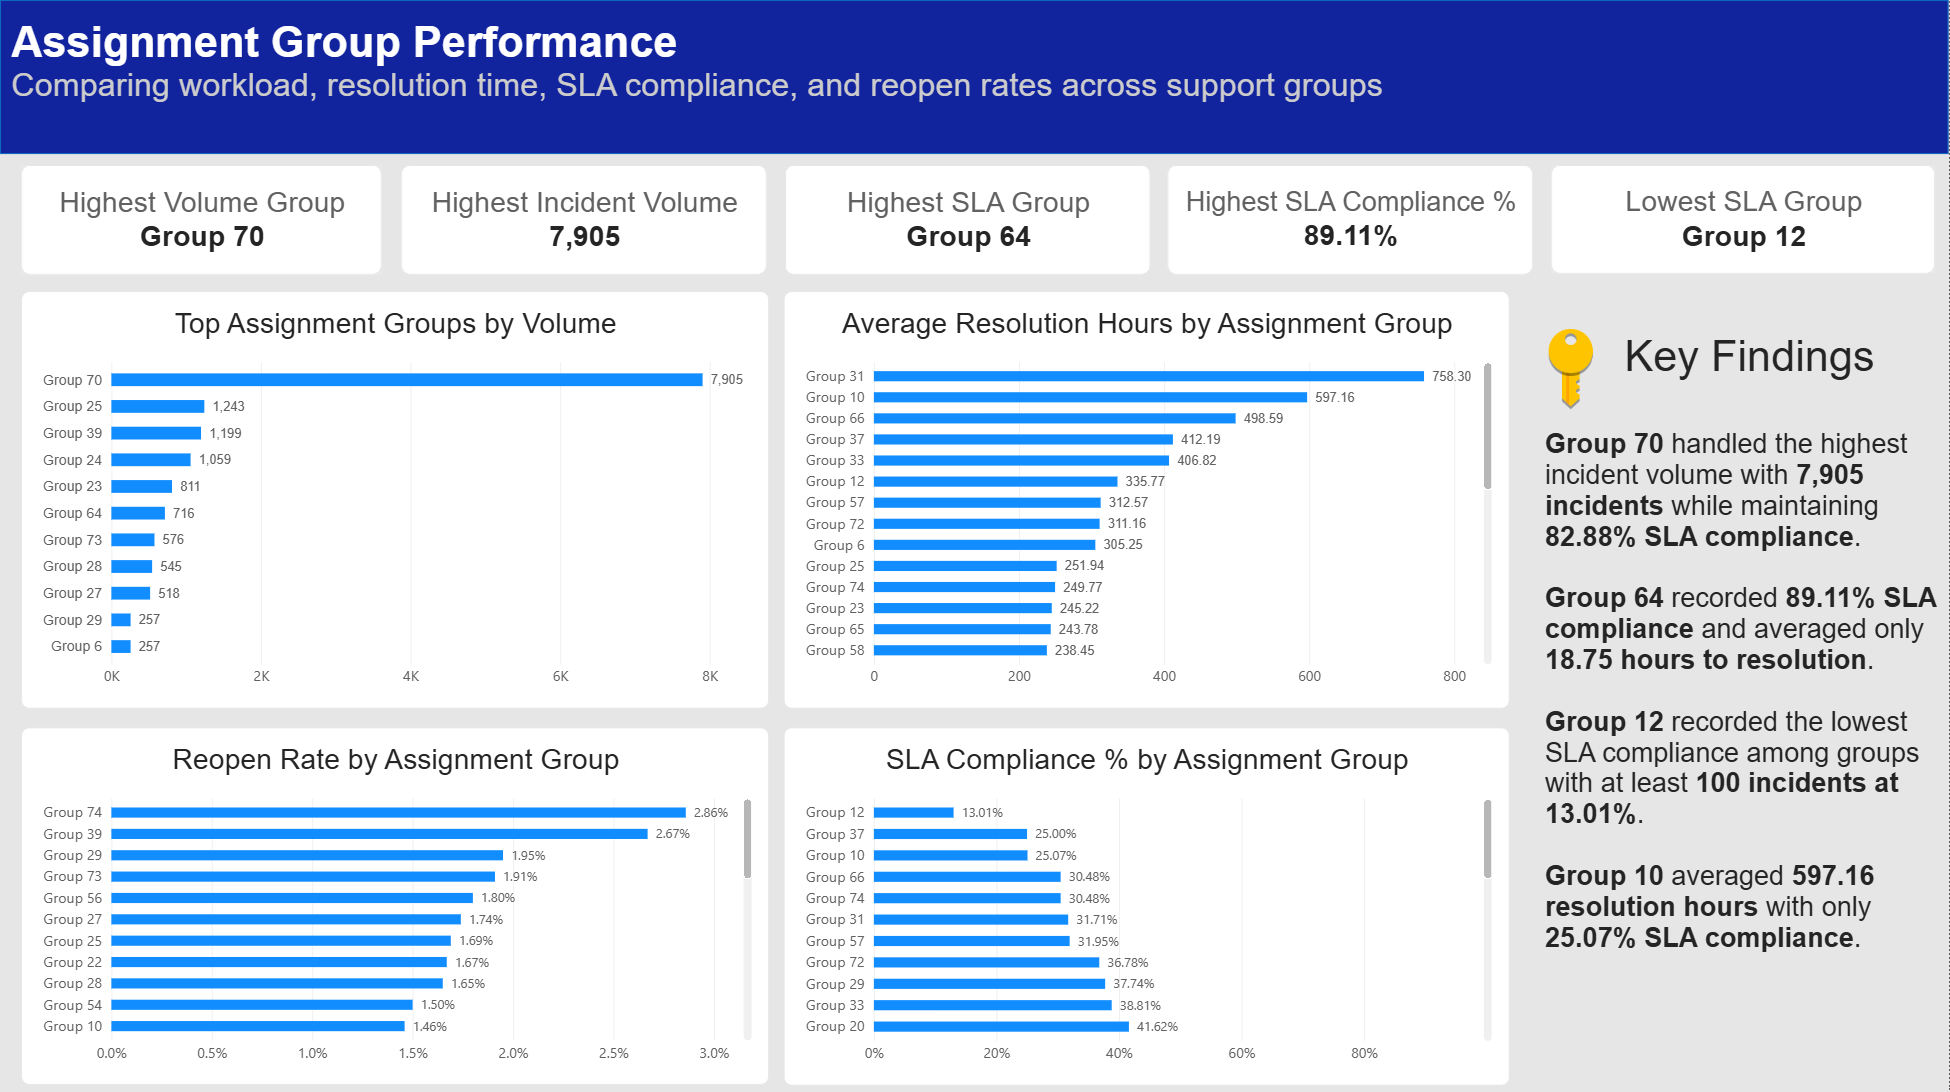

The dashboard page shown, as its layout file describes it:
{"tool":"powerbi","page":{"name":"Assignment Group Performance","canvas":[1920,1080],"ordinal":3},"visuals":[{"type":"shape","box":[0,0,1920,151.8],"z":0},{"type":"textbox","box":[11.5,17.2,1513.3,146.2],"z":1000},{"type":"cardVisual","title":"Total Incidents","fields":{"Data":["vw_Assignment_Group_Performance.Highest Volume Group"]},"box":[21.5,163.1,355.4,108.9],"z":2000},{"type":"cardVisual","fields":{"Data":["vw_Assignment_Group_Performance.Highest Group Volume"]},"box":[394.9,163.1,360,108.2],"z":3000},{"type":"cardVisual","fields":{"Data":["vw_Assignment_Group_Performance.Highest SLA Group"]},"box":[773,163.2,360,108.2],"z":4000},{"type":"cardVisual","fields":{"Data":["vw_Assignment_Group_Performance.Highest SLA Compliance"]},"box":[1151,163.1,360,108.2],"z":5000},{"type":"textbox","box":[1529.1,326.7,390.8,72.7],"z":6000},{"type":"image","box":[1497.5,319.6,100.1,87.2],"z":7000},{"type":"textbox","box":[1521.9,422.8,398.4,657.8],"z":8000},{"type":"cardVisual","title":"Lowest SLA Category (100+ Incidents)","fields":{"Data":["vw_Assignment_Group_Performance.Lowest SLA Group"]},"box":[1529.1,163.1,378.3,107.5],"z":9000},{"type":"clusteredBarChart","title":"Top Assignment Groups by Volume","fields":{"Category":["vw_Assignment_Group_Performance.assignment_group"],"Y":["Sum(vw_Assignment_Group_Performance.Incident_Count)"]},"box":[21.5,286.6,736.6,411.3],"z":10000},{"type":"clusteredBarChart","title":"Average Resolution Hours by Assignment Group","fields":{"Category":["vw_Assignment_Group_Performance.assignment_group"],"Y":["Avg(vw_Assignment_Group_Performance.Average_Resolution_Hours)"]},"box":[772.4,286.6,715.1,411.3],"z":11000},{"type":"clusteredBarChart","title":"Reopen Rate by Assignment Group","fields":{"Category":["vw_Assignment_Group_Performance.assignment_group"],"Y":["vw_Assignment_Group_Performance.Assignment Group Reopen Rate %"]},"box":[21.5,716.5,737,352],"z":12000},{"type":"clusteredBarChart","title":"SLA Compliance % by Assignment Group","fields":{"Category":["vw_Assignment_Group_Performance.assignment_group"],"Y":["vw_Assignment_Group_Performance.Assignment Group SLA %"]},"box":[772.4,716.5,715.1,352.5],"z":13000}]}

Visuals, with their boxes in screenshot pixels (x1, y1, x2, y2), scaled from the page's 1920x1080 canvas onto the 1950x1092 screenshot:
shape: {"left": 0, "top": 0, "right": 1949, "bottom": 153}
textbox: {"left": 12, "top": 17, "right": 1549, "bottom": 165}
"Total Incidents" cardVisual: {"left": 22, "top": 165, "right": 383, "bottom": 275}
cardVisual - vw_Assignment_Group_Performance.Highest Group Volume: {"left": 401, "top": 165, "right": 767, "bottom": 274}
cardVisual - vw_Assignment_Group_Performance.Highest SLA Group: {"left": 785, "top": 165, "right": 1151, "bottom": 274}
cardVisual - vw_Assignment_Group_Performance.Highest SLA Compliance: {"left": 1169, "top": 165, "right": 1535, "bottom": 274}
textbox: {"left": 1553, "top": 330, "right": 1949, "bottom": 404}
image: {"left": 1521, "top": 323, "right": 1623, "bottom": 411}
textbox: {"left": 1546, "top": 427, "right": 1949, "bottom": 1091}
"Lowest SLA Category (100+ Incidents)" cardVisual: {"left": 1553, "top": 165, "right": 1937, "bottom": 274}
"Top Assignment Groups by Volume" clusteredBarChart: {"left": 22, "top": 290, "right": 770, "bottom": 706}
"Average Resolution Hours by Assignment Group" clusteredBarChart: {"left": 784, "top": 290, "right": 1511, "bottom": 706}
"Reopen Rate by Assignment Group" clusteredBarChart: {"left": 22, "top": 724, "right": 770, "bottom": 1080}
"SLA Compliance % by Assignment Group" clusteredBarChart: {"left": 784, "top": 724, "right": 1511, "bottom": 1081}
